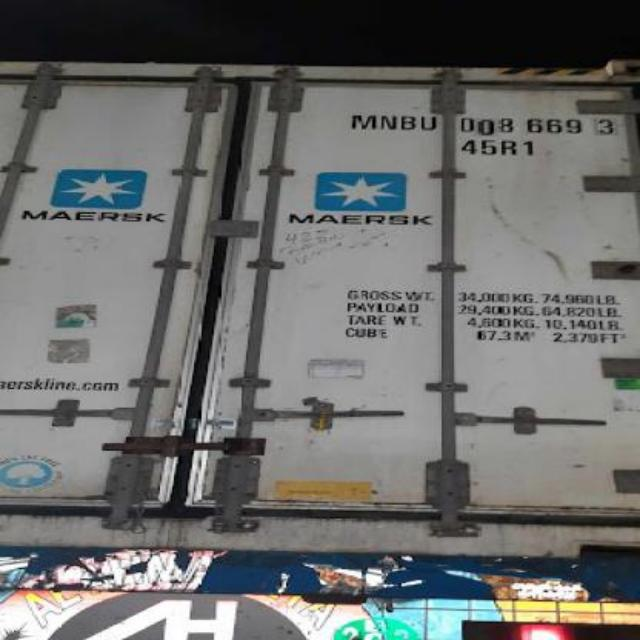0: (456, 116, 478, 134), (478, 117, 494, 135)
3: (596, 117, 616, 133)
6: (524, 118, 546, 132), (546, 118, 564, 132)
8: (498, 118, 516, 132)
9: (564, 118, 586, 134)
B: (400, 113, 420, 131)
M: (348, 113, 380, 131)
N: (378, 113, 399, 131)
U: (421, 113, 442, 131)
